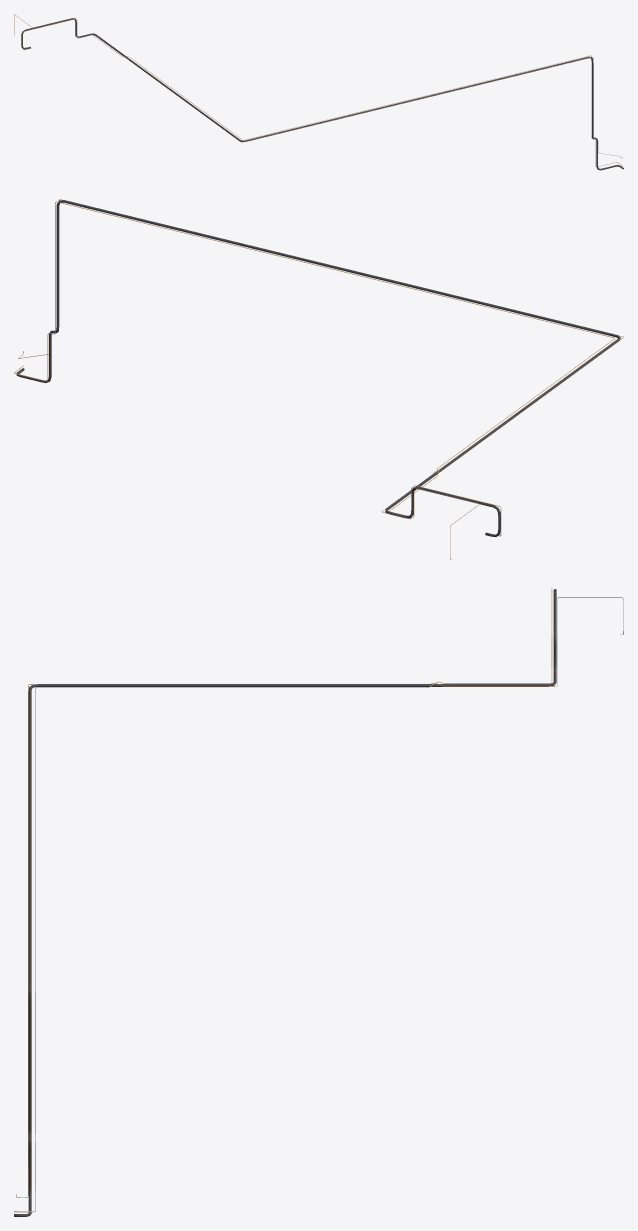
Rendered from slab_pipes_hvac__hvac-heatpump_attic.glb.
3 renders of one model, top to bottom at view 1: azimuth 30°, elevation 25°; view 2: azimuth 150°, elevation 25°; view 3: azimuth 270°, elevation 25°, orthographic. The views are drawn at different scales.
Visible parts, largest first — view 1: pipe_hvac_lineset_suction_hp_rd16ay36, pipe_hvac_lineset_liquid_hp_rd16ay36, pipe_hvac_lineset_tstat_cable_hp_rd16ay36; view 2: pipe_hvac_lineset_suction_hp_rd16ay36, pipe_hvac_lineset_liquid_hp_rd16ay36, pipe_hvac_lineset_tstat_cable_hp_rd16ay36; view 3: pipe_hvac_lineset_suction_hp_rd16ay36, pipe_hvac_lineset_liquid_hp_rd16ay36, pipe_hvac_lineset_tstat_cable_hp_rd16ay36.
Part boxes in pixels (box(x1,y1,x2,y2)): pipe_hvac_lineset_suction_hp_rd16ay36: box(21, 18, 623, 170); pipe_hvac_lineset_liquid_hp_rd16ay36: box(22, 18, 622, 167); pipe_hvac_lineset_tstat_cable_hp_rd16ay36: box(14, 14, 622, 158); pipe_hvac_lineset_suction_hp_rd16ay36: box(16, 200, 620, 536); pipe_hvac_lineset_liquid_hp_rd16ay36: box(14, 201, 614, 536); pipe_hvac_lineset_tstat_cable_hp_rd16ay36: box(18, 199, 623, 559); pipe_hvac_lineset_suction_hp_rd16ay36: box(14, 589, 556, 1216); pipe_hvac_lineset_liquid_hp_rd16ay36: box(14, 588, 552, 1212); pipe_hvac_lineset_tstat_cable_hp_rd16ay36: box(16, 597, 623, 1197).
Bounding box in the file's own units: 13.15 × 3.81 × 8.7.
